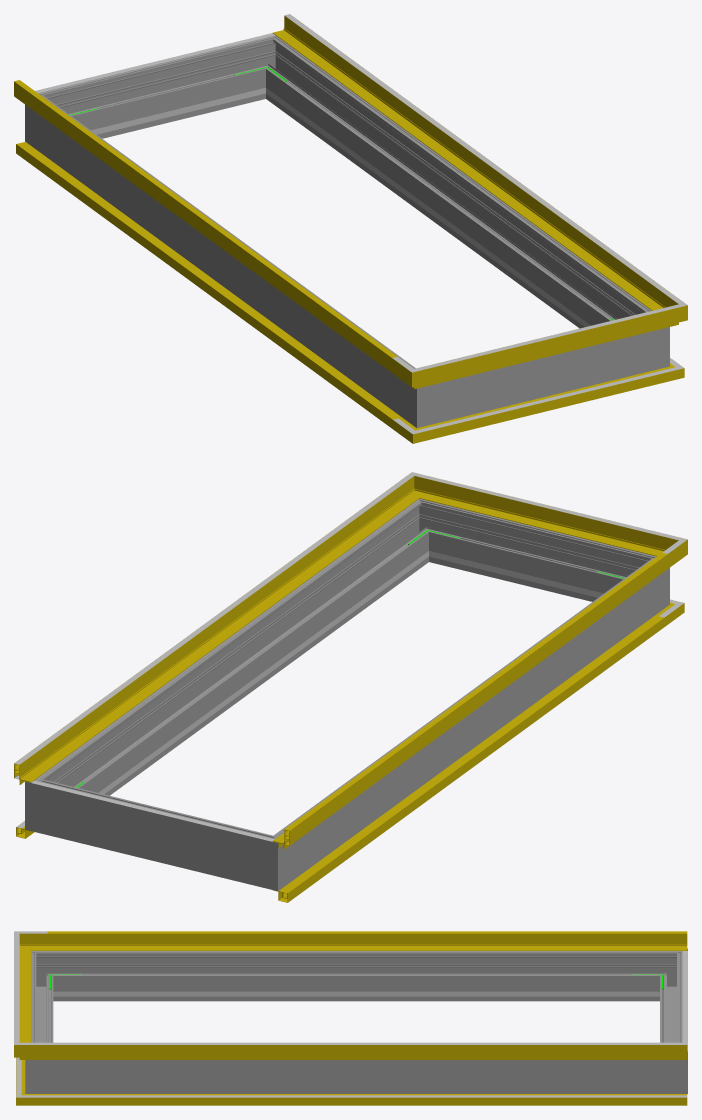
3 views of the same model, one above another, from view 1: azimuth 30°, elevation 25°; view 2: azimuth 150°, elevation 25°; view 3: azimuth 270°, elevation 25° (orthographic). The views are drawn at different scales.
Parts seen in each view (by area): view 1: 3DGeom-298, 3DGeom-269, 3DGeom-58, 3DGeom-277, 3DGeom-299, 3DGeom-50, 3DGeom-6, 3DGeom-56, 3DGeom-11, 3DGeom-71, 3DGeom-64, 3DGeom-25 (+12 smaller); view 2: 3DGeom-298, 3DGeom-269, 3DGeom-58, 3DGeom-299, 3DGeom-277, 3DGeom-50, 3DGeom-6, 3DGeom-56, 3DGeom-279, 3DGeom-64, 3DGeom-71, 3DGeom-25 (+9 smaller); view 3: 3DGeom-269, 3DGeom-298, 3DGeom-50, 3DGeom-58, 3DGeom-16, 3DGeom-233, 3DGeom-71, 3DGeom-64, 3DGeom-18, 3DGeom-299, 3DGeom-277, 3DGeom-285 (+9 smaller).
Part boxes in pixels (bbox=[...]): 3DGeom-298: bbox=[269, 47, 643, 328]; 3DGeom-269: bbox=[45, 105, 407, 413]; 3DGeom-58: bbox=[273, 15, 664, 309]; 3DGeom-277: bbox=[63, 42, 260, 138]; 3DGeom-299: bbox=[451, 335, 635, 419]; 3DGeom-50: bbox=[14, 81, 396, 372]; 3DGeom-6: bbox=[16, 142, 401, 428]; 3DGeom-56: bbox=[443, 313, 653, 381]; 3DGeom-11: bbox=[442, 372, 649, 435]; 3DGeom-71: bbox=[14, 80, 396, 357]; 3DGeom-64: bbox=[285, 14, 667, 291]; 3DGeom-25: bbox=[16, 142, 397, 419]; 3DGeom-298: bbox=[50, 511, 425, 795]; 3DGeom-269: bbox=[287, 568, 649, 876]; 3DGeom-58: bbox=[14, 488, 409, 784]; 3DGeom-299: bbox=[434, 505, 631, 601]; 3DGeom-277: bbox=[59, 785, 249, 882]; 3DGeom-50: bbox=[272, 554, 667, 849]; 3DGeom-6: bbox=[273, 615, 664, 902]; 3DGeom-56: bbox=[436, 483, 650, 553]; 3DGeom-279: bbox=[243, 826, 297, 891]; 3DGeom-64: bbox=[14, 486, 397, 765]; 3DGeom-71: bbox=[284, 552, 667, 830]; 3DGeom-25: bbox=[282, 616, 663, 894]; 3DGeom-269: bbox=[59, 951, 654, 1001]; 3DGeom-298: bbox=[59, 1060, 654, 1093]; 3DGeom-50: bbox=[47, 933, 687, 950]; 3DGeom-58: bbox=[47, 1045, 687, 1059]; 3DGeom-16: bbox=[49, 1094, 687, 1105]; 3DGeom-233: bbox=[85, 991, 627, 996]; 3DGeom-71: bbox=[47, 931, 687, 933]; 3DGeom-64: bbox=[47, 1042, 687, 1044]; 3DGeom-18: bbox=[50, 1095, 687, 1097]; 3DGeom-299: bbox=[31, 963, 53, 1042]; 3DGeom-277: bbox=[660, 963, 682, 1042]; 3DGeom-285: bbox=[654, 1039, 687, 1093].
Size of the model in its own units: 1.22 by 0.307 by 3.05.
